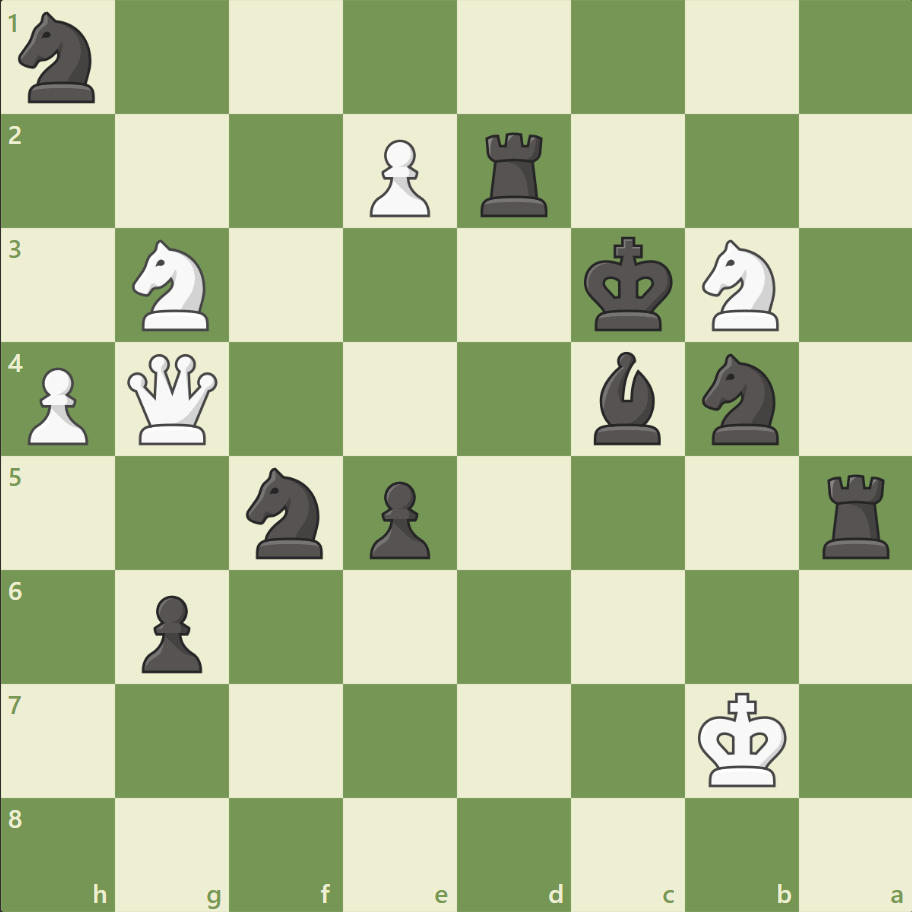K: (692, 685, 792, 793)
N: (124, 234, 222, 337), (692, 234, 789, 337)
P: (20, 359, 95, 450), (361, 132, 435, 223)
Q: (124, 349, 223, 449)
b: (585, 347, 669, 449)
k: (579, 231, 679, 339)
n: (238, 461, 335, 564), (11, 7, 108, 110), (692, 348, 789, 450)
p: (133, 586, 208, 677), (361, 473, 435, 564)
r: (814, 466, 897, 563), (473, 125, 556, 222)
